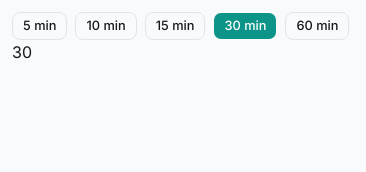
it: DurationPresets › updates minutes when preset is clicked
This screenshot has width=366, height=172.
Click the button "15 min".
click(175, 26)  # box [145,12,205,40]
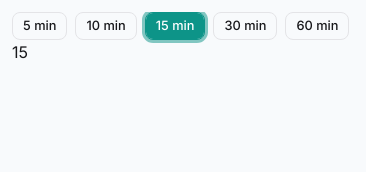
Expected: the text with test id "minutes" reads "15", [12,42,28,62]
